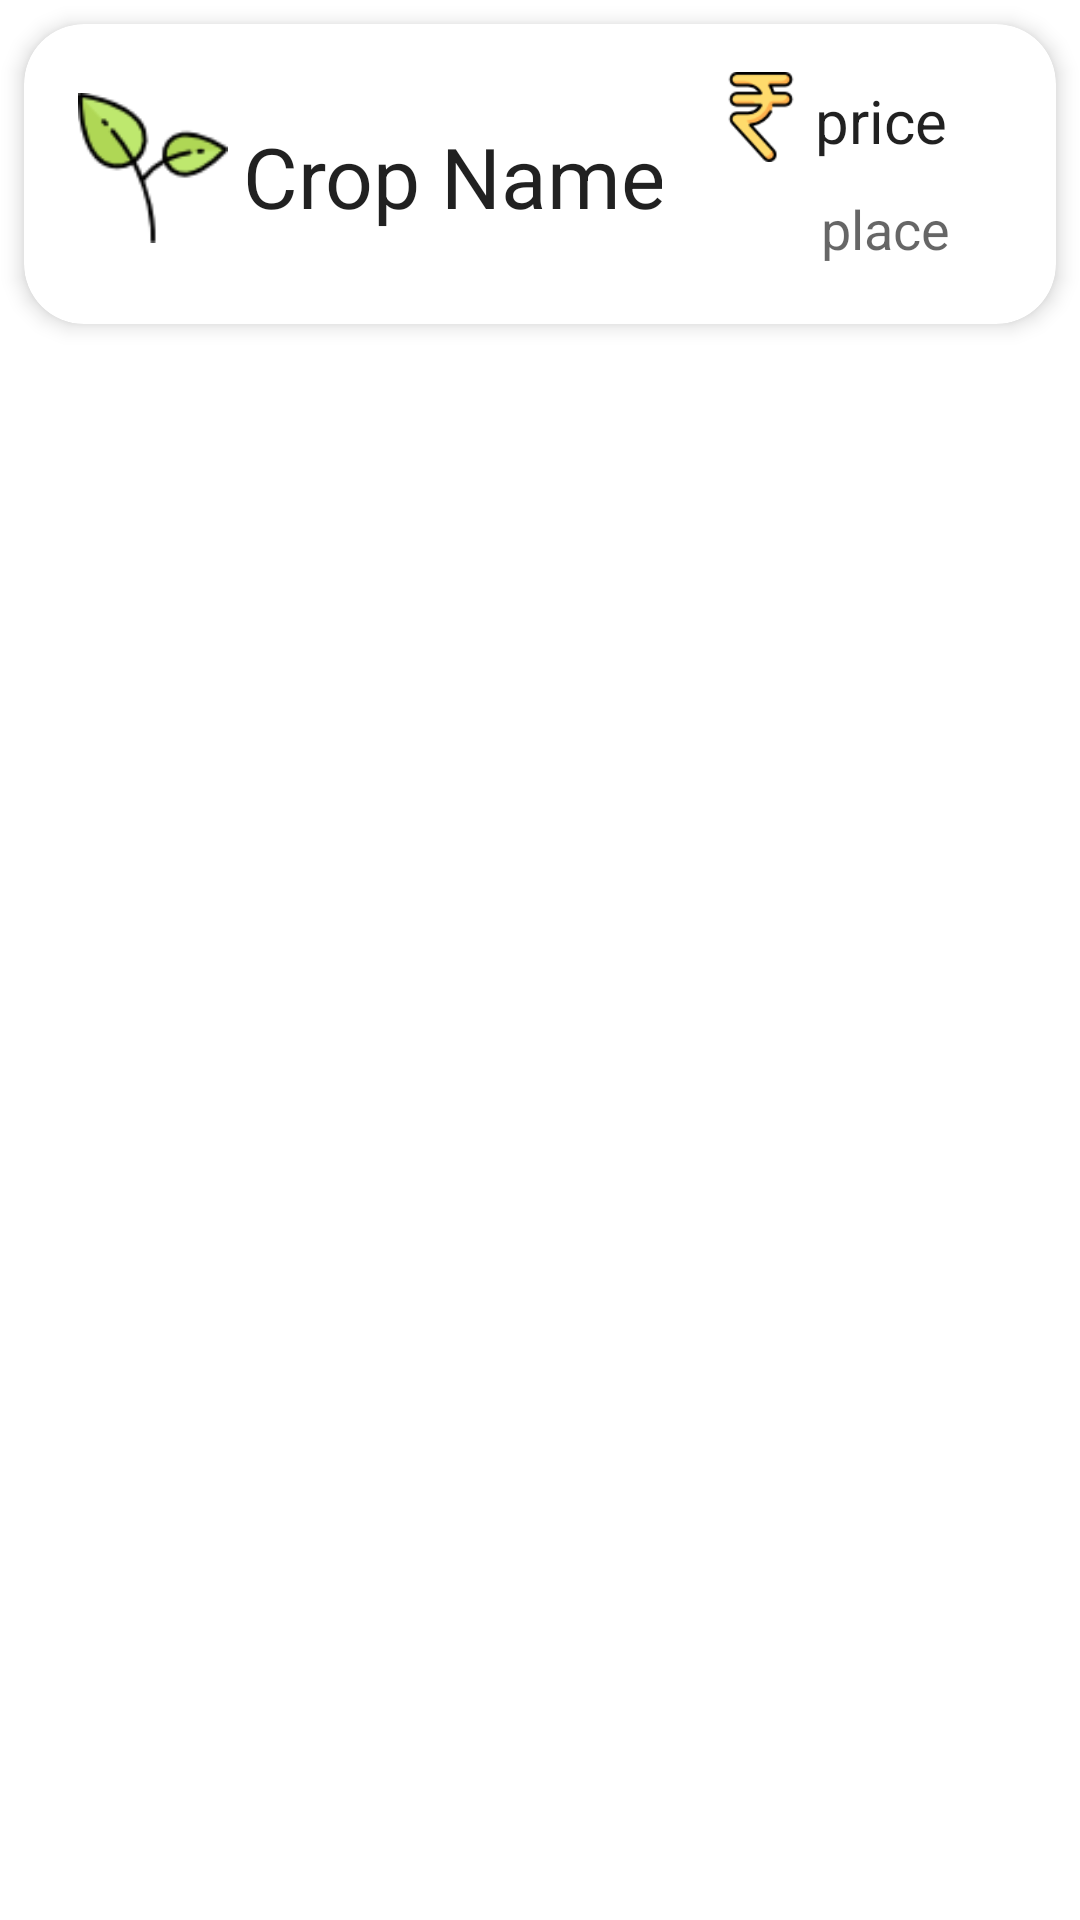

Screen size 1080*1920. Icon name, then its center in pixels as [x,y]:
plant: [153,168]
rupee: [761,117]
